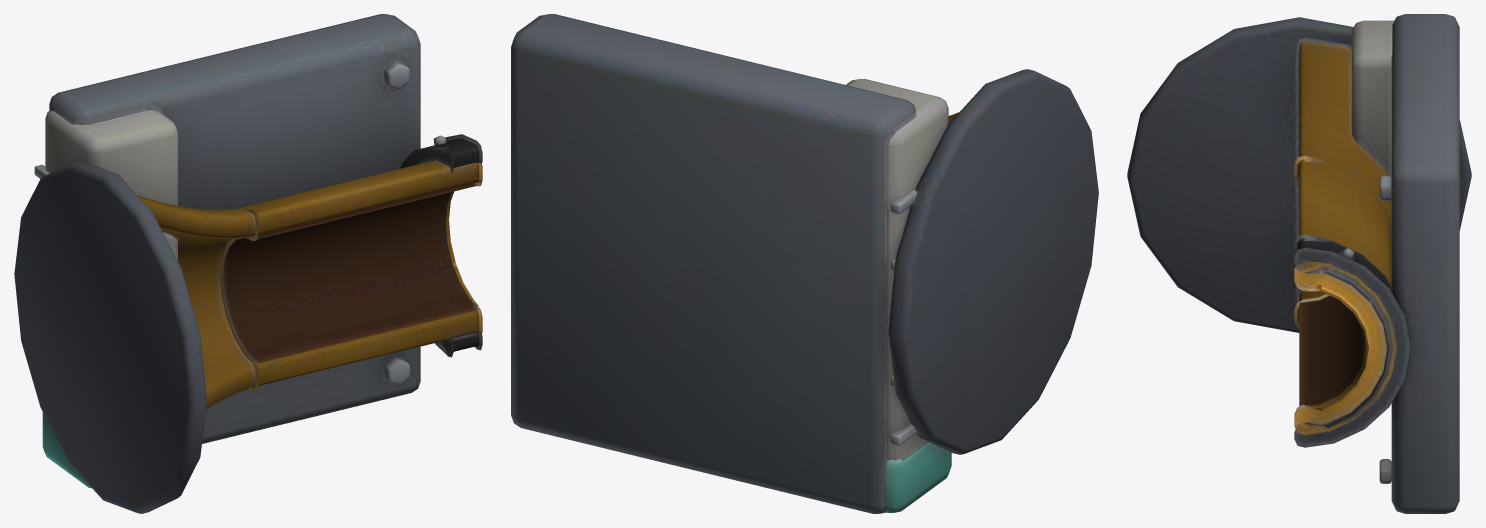
File: pipe_inlet.glb
3 views of the same model, side by side, from view 1: azimuth 30°, elevation 25°; view 2: azimuth 150°, elevation 25°; view 3: azimuth 270°, elevation 25° (orthographic). The views are drawn at different scales.
Visible parts, largest first — view 1: pipe_inlet; view 2: pipe_inlet; view 3: pipe_inlet.
Part boxes in pixels (x1,y1,x2,y2): pipe_inlet: [14, 14, 482, 513]; pipe_inlet: [511, 14, 1098, 513]; pipe_inlet: [1127, 14, 1471, 513].
Bounding box in the file's own units: 2.12 × 1.92 × 1.72.
1 material, 1 textured.
